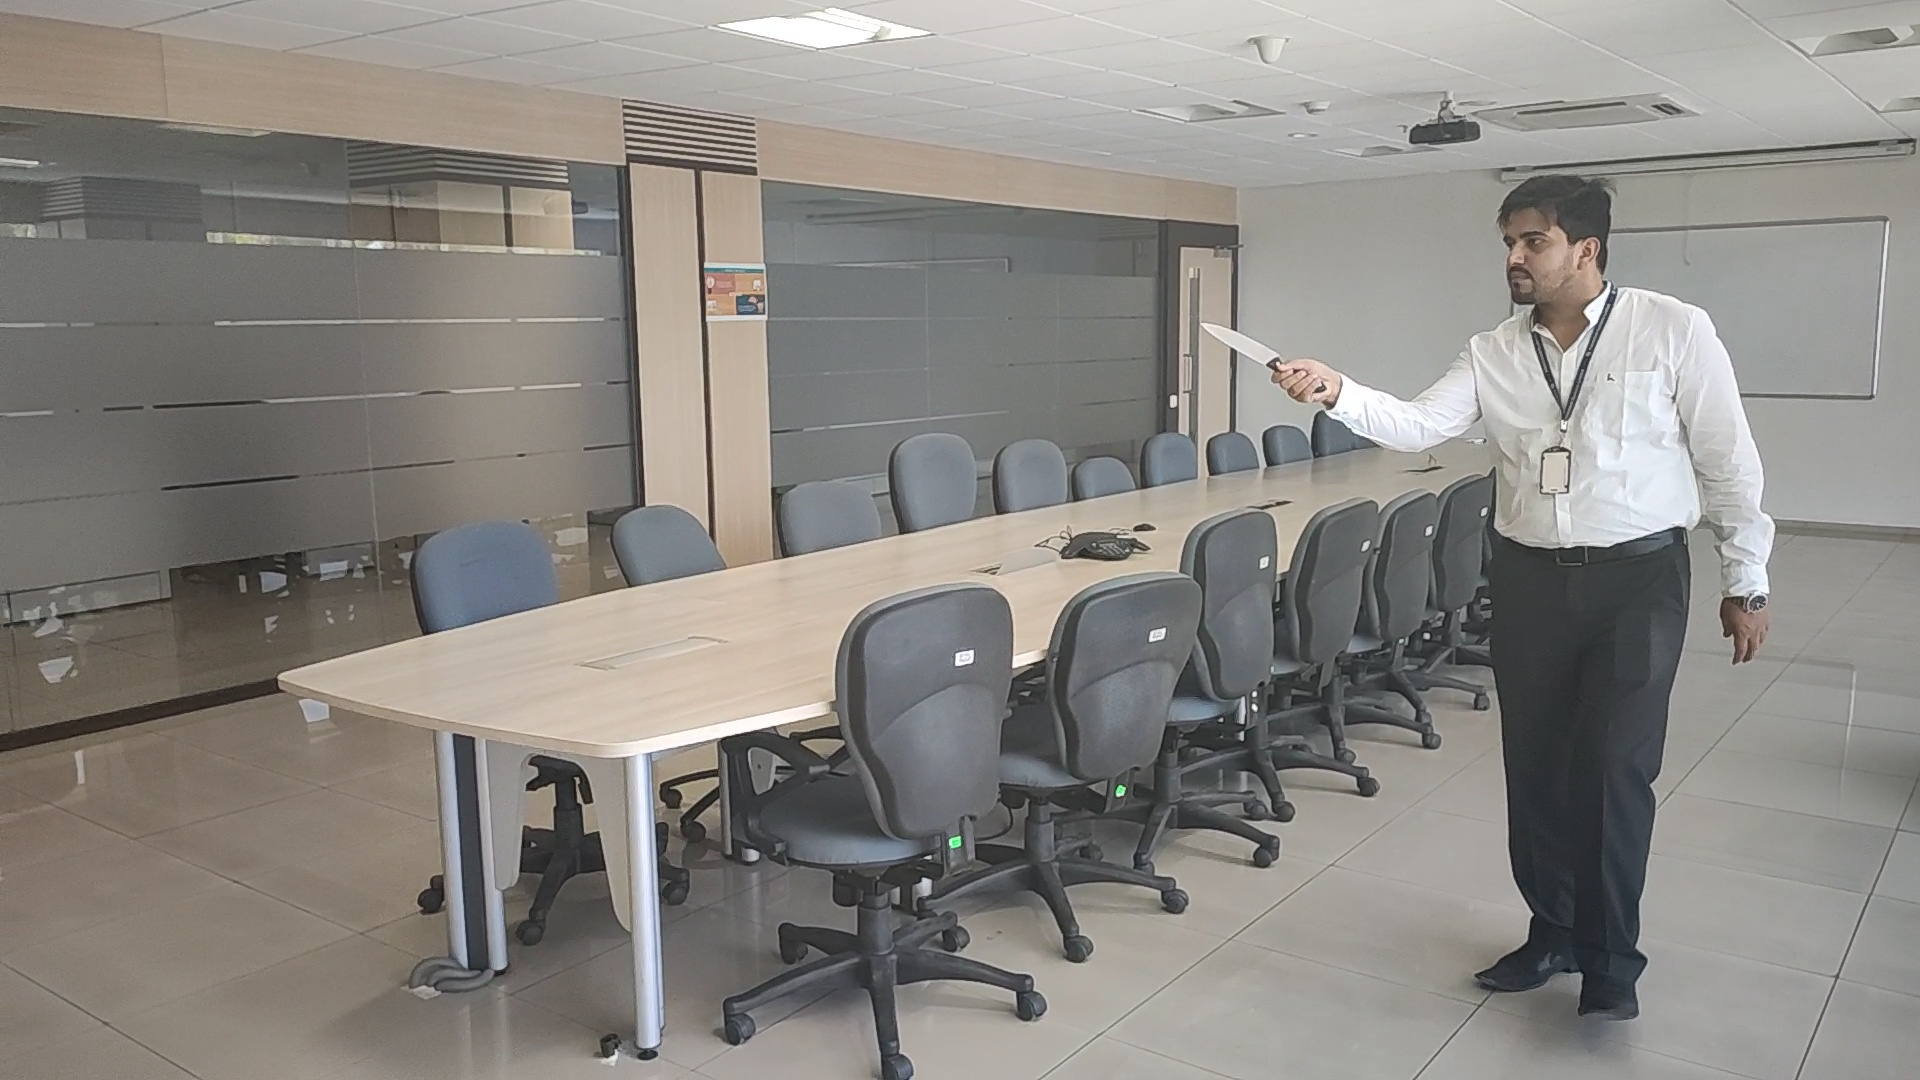knife: (1201, 318, 1284, 376)
